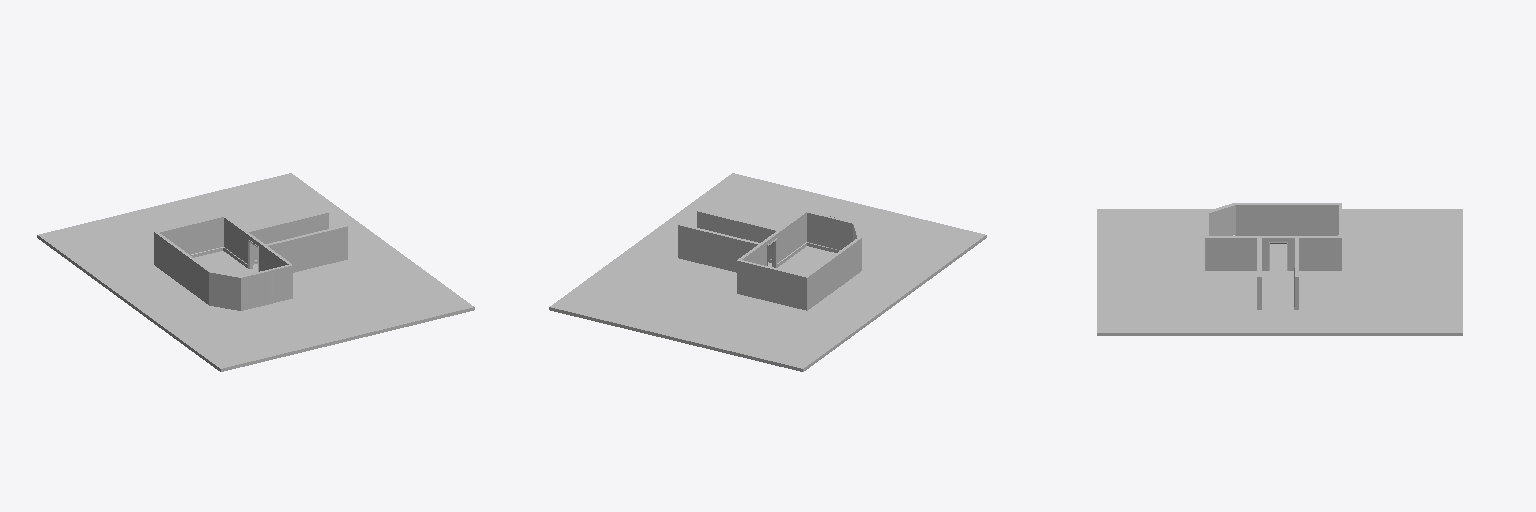
The model's file is Room.obj.
The picture shows the model from 3 angles: view 1: azimuth 30°, elevation 25°; view 2: azimuth 150°, elevation 25°; view 3: azimuth 270°, elevation 25°; orthographic projection.
Parts seen in each view (by area): view 1: Floor_Cube.011, Floor.001_Cube.012, Other_Walls_Cube.001, Door_Wall_Cube.002; view 2: Floor_Cube.011, Floor.001_Cube.012, Other_Walls_Cube.001, Door_Wall_Cube.002; view 3: Floor.001_Cube.012, Floor_Cube.011, Other_Walls_Cube.001, Door_Wall_Cube.002.
Part boxes in pixels (x1,y1,x2,y2): Floor_Cube.011: (37,204,347,371); Floor.001_Cube.012: (165,173,474,340); Other_Walls_Cube.001: (154,215,292,310); Door_Wall_Cube.002: (224,211,347,272); Floor_Cube.011: (676,204,986,371); Floor.001_Cube.012: (549,173,858,340); Other_Walls_Cube.001: (737,210,861,310); Door_Wall_Cube.002: (678,210,806,272); Floor.001_Cube.012: (1097,271,1462,335); Floor_Cube.011: (1097,209,1462,270); Other_Walls_Cube.001: (1205,203,1341,270); Door_Wall_Cube.002: (1207,236,1338,309).
Size of the model in its own units: 80 by 11.02 by 100.